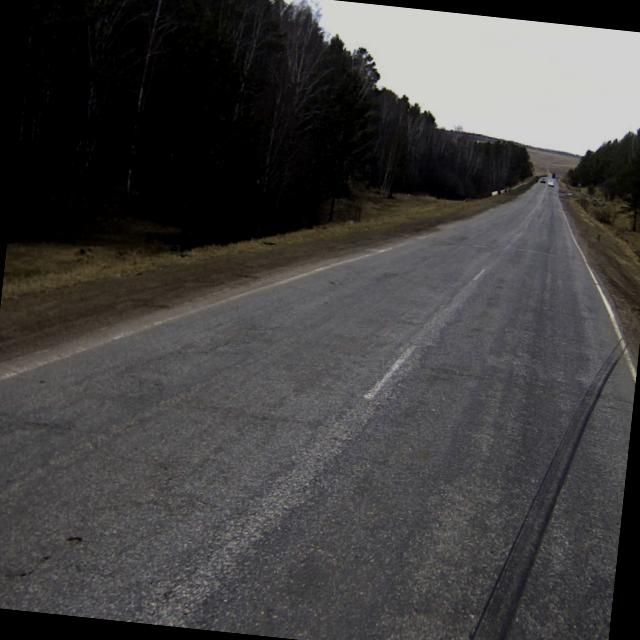road: (0, 181, 637, 640)
